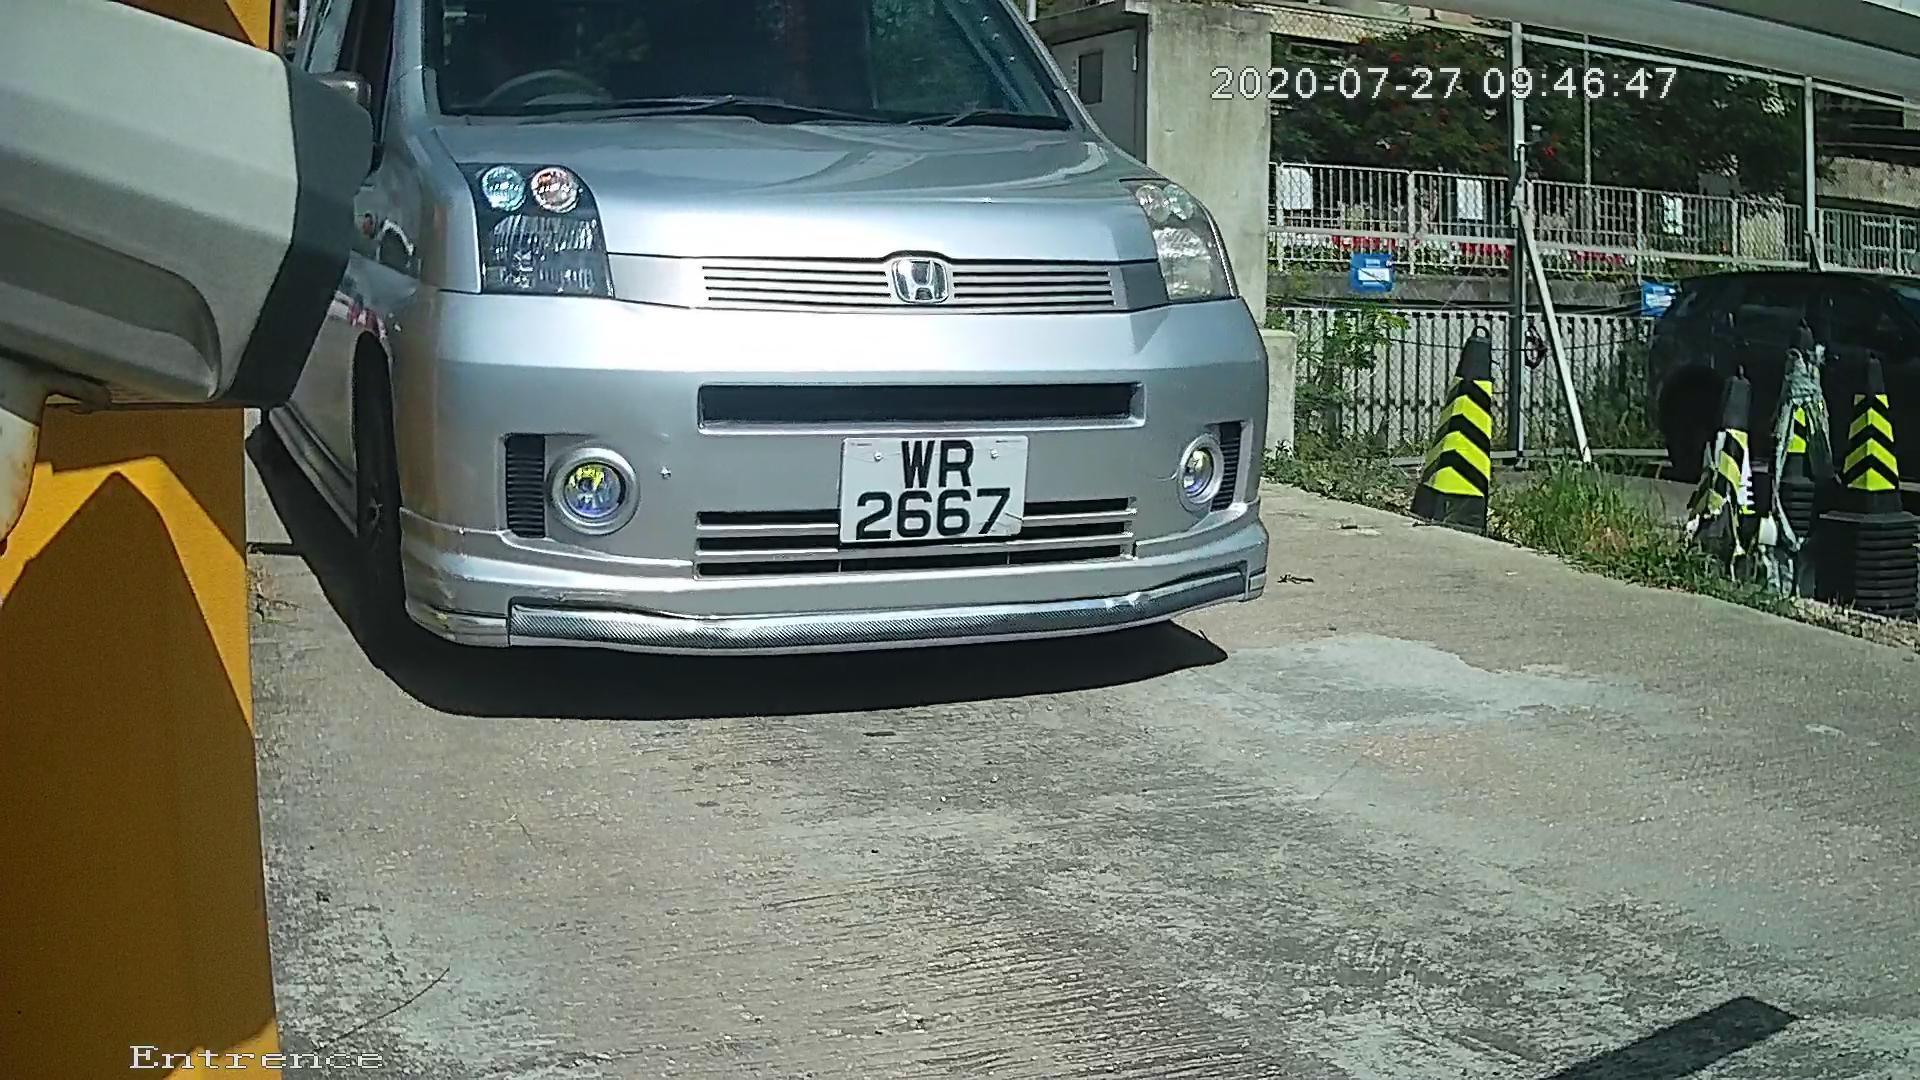License Plate: (823, 425, 1029, 565)
